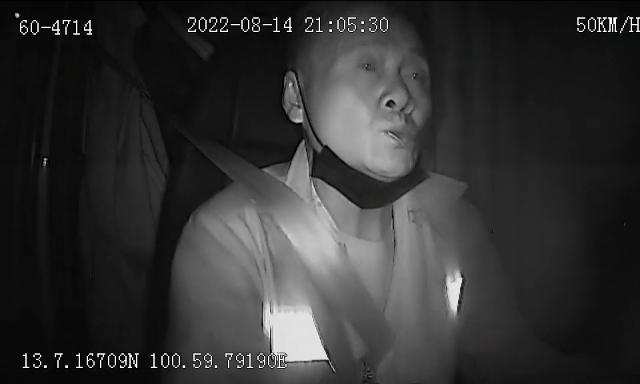SafeDriving: (354, 49, 386, 83), (401, 56, 430, 89)
Seatbelt: (200, 137, 400, 349)
